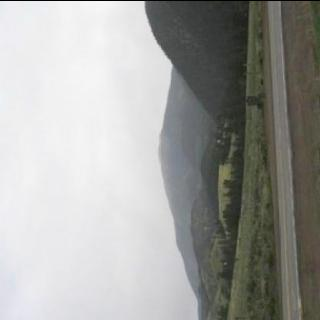Stratocumulus: (0, 0, 143, 320)
